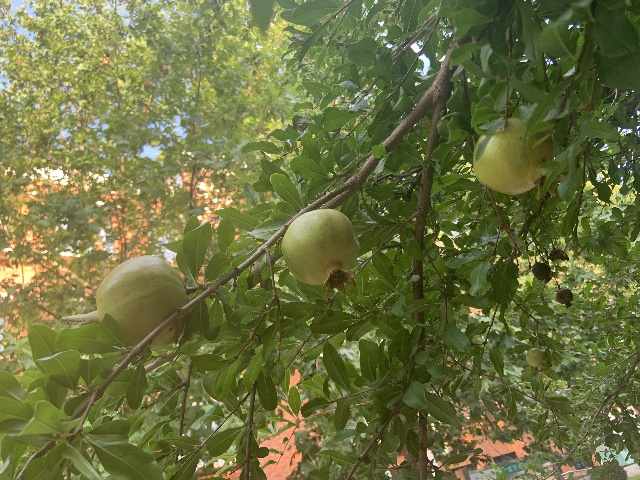mid-growth: (60, 255, 188, 350), (471, 117, 566, 200), (280, 207, 359, 297), (525, 348, 549, 372)
